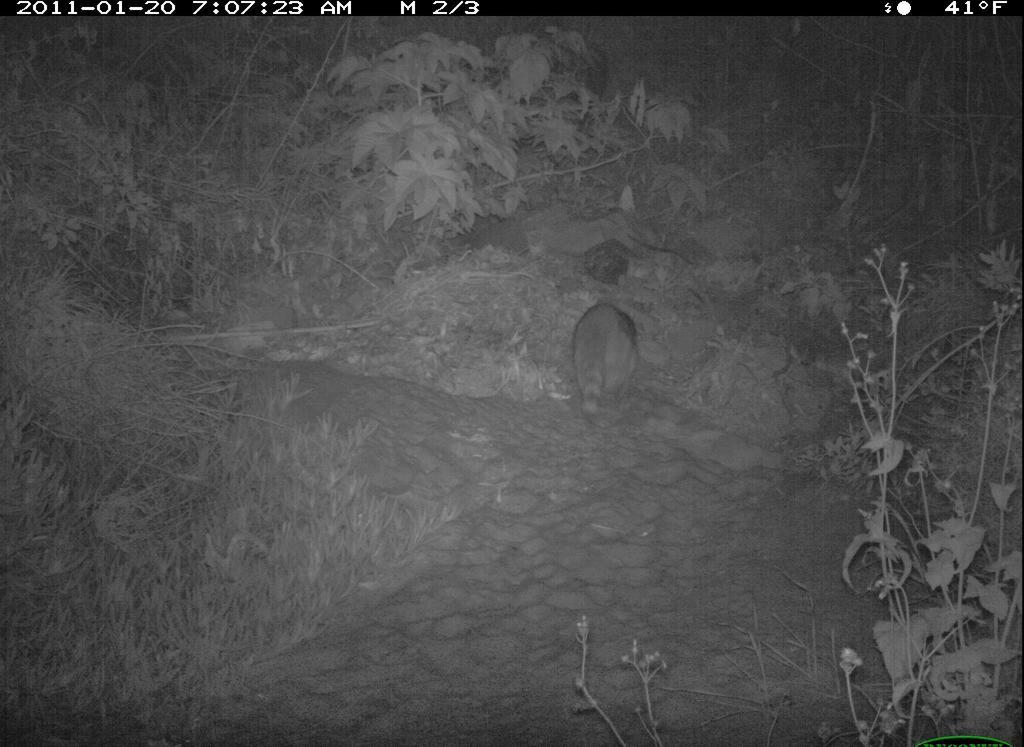raccoon: (564, 290, 647, 431)
